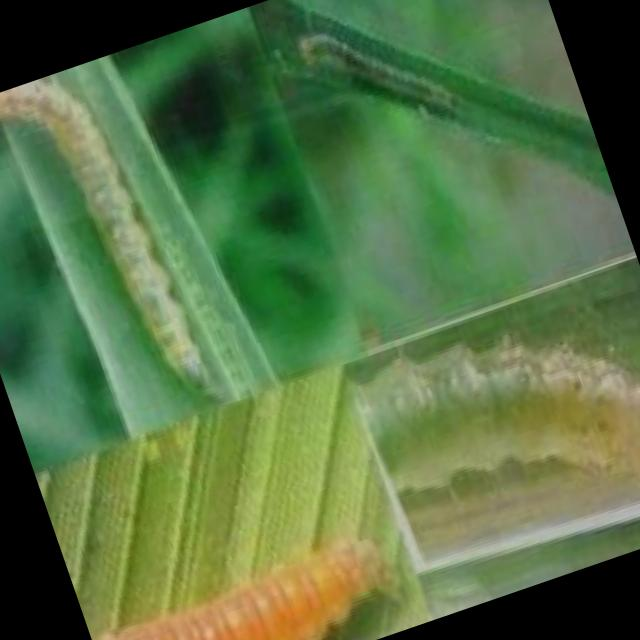leaf-folder: (0, 42, 271, 471), (348, 267, 640, 564), (78, 505, 399, 640), (278, 0, 478, 183)
